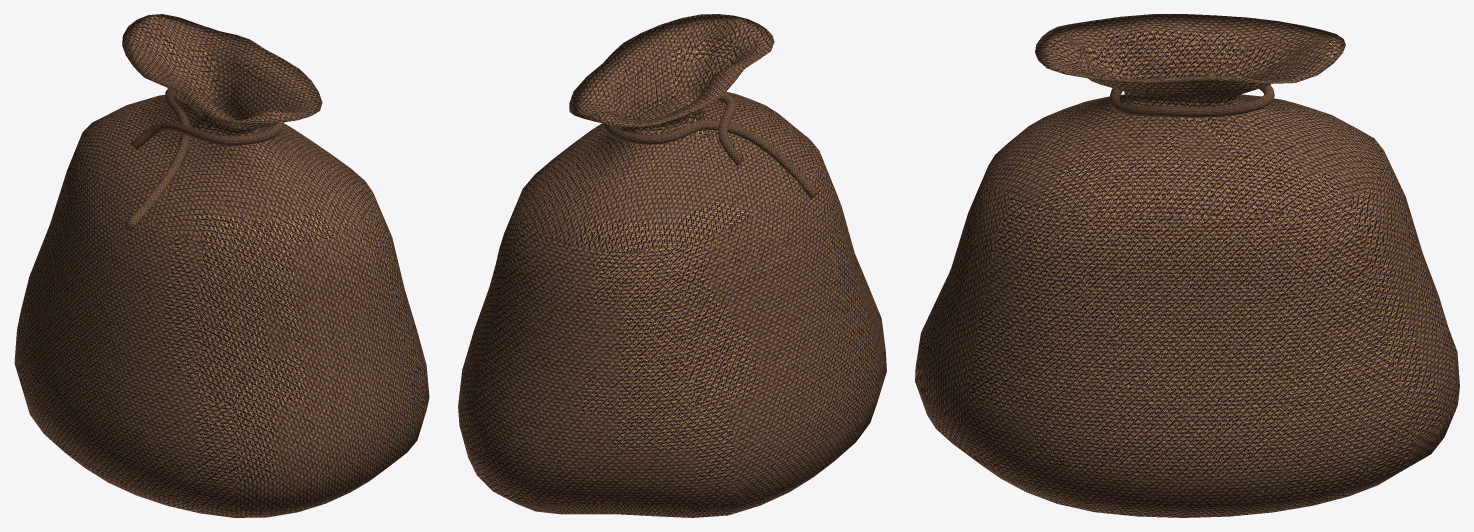
File: bag.fbx
3 renders of one model, left to right at view 1: azimuth 30°, elevation 25°; view 2: azimuth 150°, elevation 25°; view 3: azimuth 270°, elevation 25°, orthographic. The views are drawn at different scales.
Visible parts, largest first — view 1: Bag; view 2: Bag; view 3: Bag.
Boxes of the visible parts, x1,y1,x2,y2 form: Bag: (14, 14, 429, 517); Bag: (458, 14, 886, 517); Bag: (915, 14, 1459, 517).
Size of the model in its own units: 1.65 by 1.8 by 2.16.
